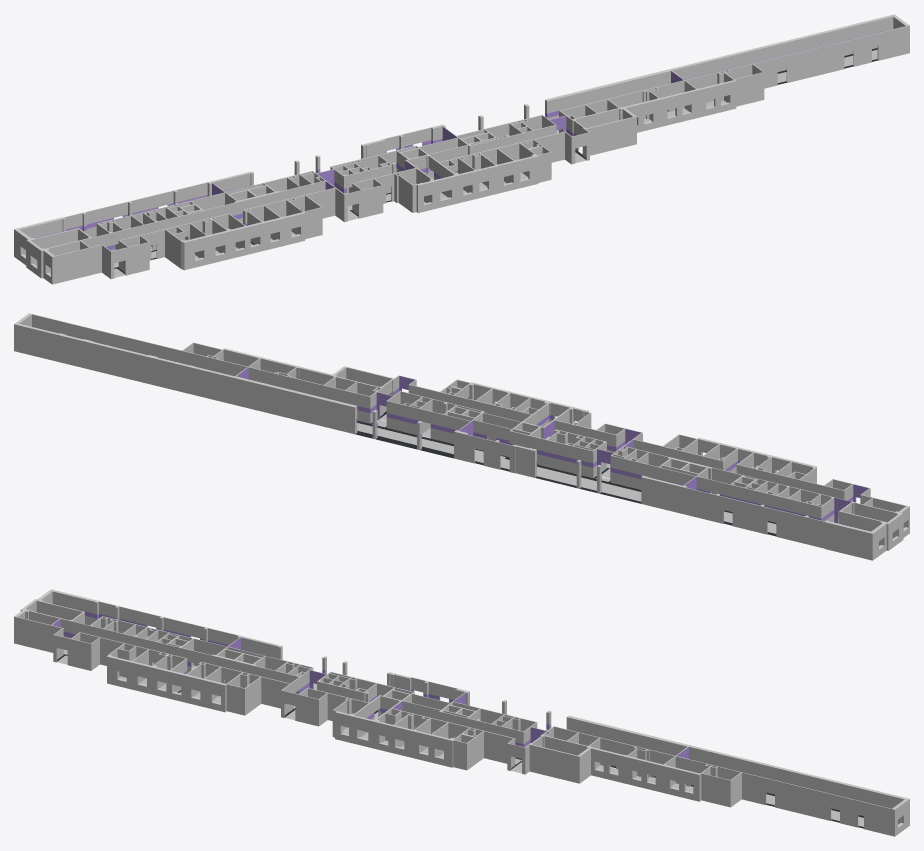
The model's file is Coridor.fbx.
3 views of the same model, one above another, from view 1: azimuth 30°, elevation 25°; view 2: azimuth 150°, elevation 25°; view 3: azimuth 330°, elevation 25° (orthographic). The views are drawn at different scales.
Parts seen in each view (by area): view 1: Plane; view 2: Plane; view 3: Plane.
Boxes of the visible parts, left/top/right/bottom form: Plane: left=14, top=14, right=909, bottom=284; Plane: left=14, top=313, right=909, bottom=560; Plane: left=14, top=589, right=909, bottom=836.
Bounding box in the file's own units: 14067 × 420 × 1560.
